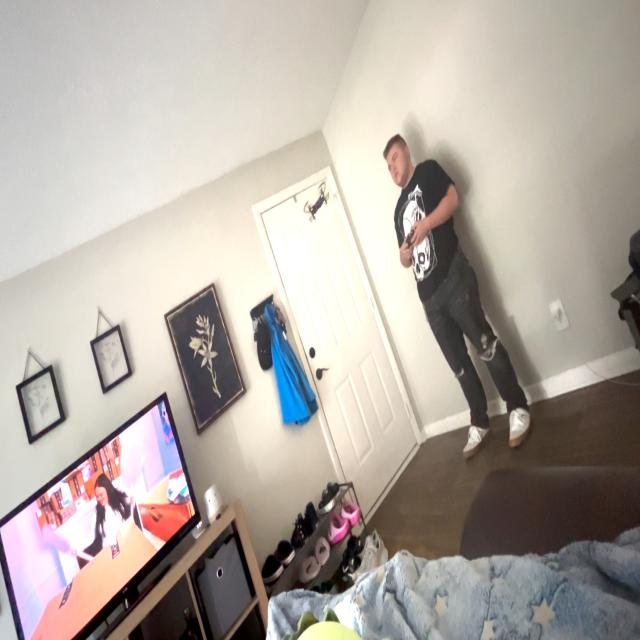drone: (297, 172, 339, 233)
